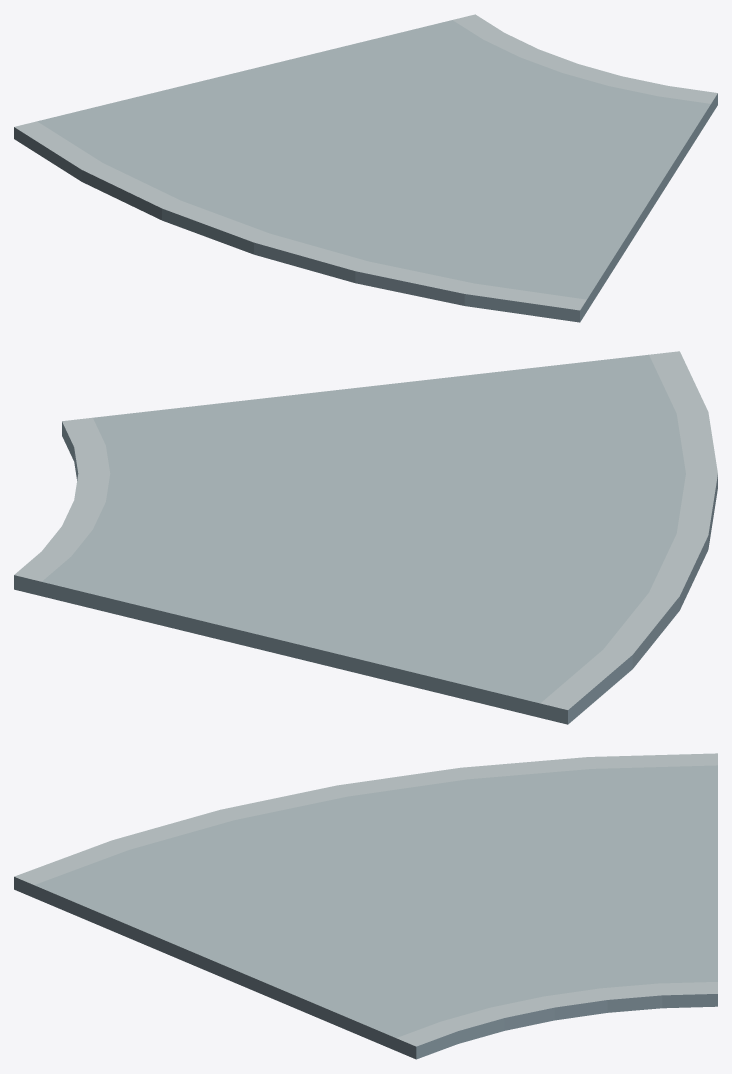
File: campus_walk_bend_45_v01.glb
The picture shows the model from 3 angles, top to bottom: view 1: azimuth 30°, elevation 25°; view 2: azimuth 150°, elevation 25°; view 3: azimuth 270°, elevation 25°; orthographic projection. The views are drawn at different scales.
Visible parts, largest first — view 1: campus_walk_bend_45; view 2: campus_walk_bend_45; view 3: campus_walk_bend_45.
Part boxes in pixels (x1=…): campus_walk_bend_45: x1=14, y1=14, x2=717, y2=322; campus_walk_bend_45: x1=14, y1=351, x2=717, y2=724; campus_walk_bend_45: x1=14, y1=753, x2=717, y2=1059.
Size of the model in its own units: 3.9 by 0.08 by 3.96.
